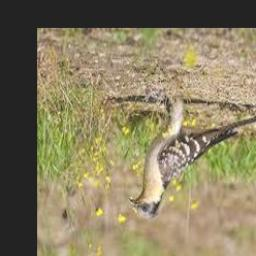Cuckoo: (129, 96, 256, 219)
